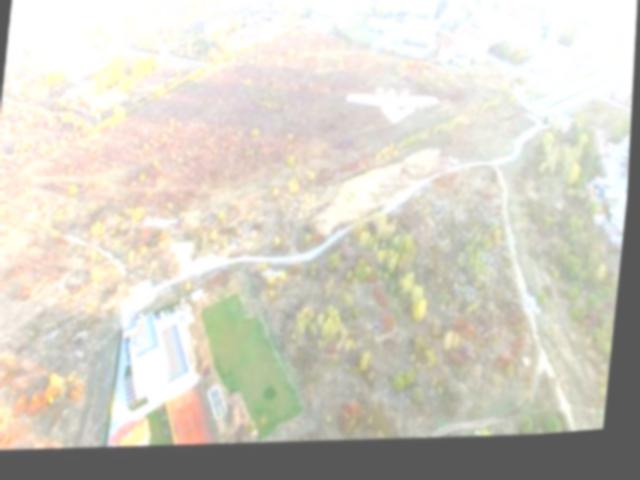uav: (342, 81, 446, 141)
